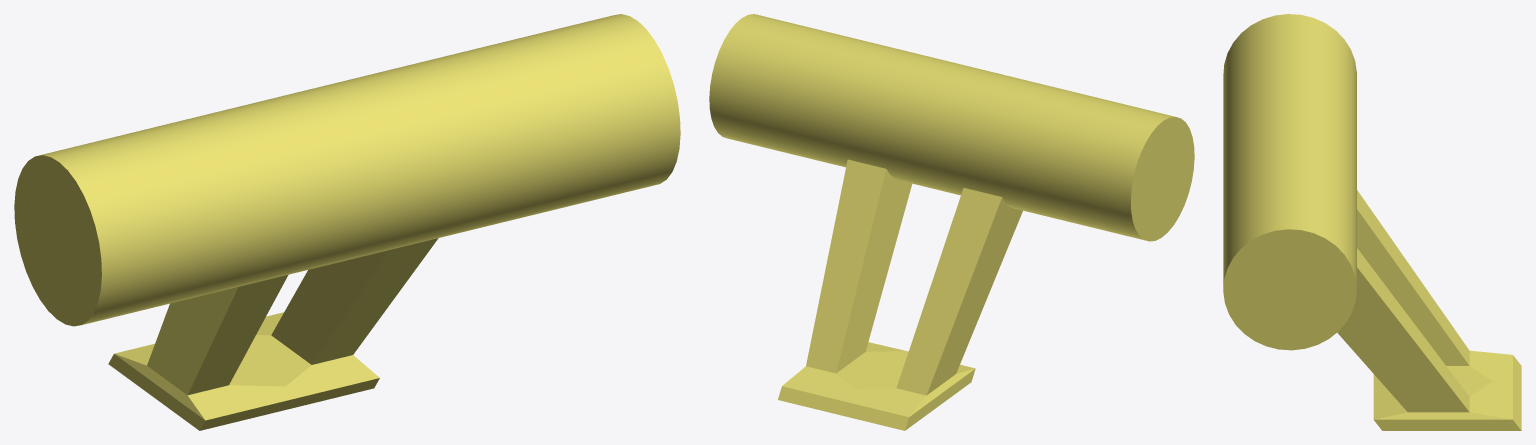
File: Poignée.fbx
The picture shows the model from 3 angles, left to right: view 1: azimuth 30°, elevation 25°; view 2: azimuth 150°, elevation 25°; view 3: azimuth 270°, elevation 25°; orthographic projection. The views are drawn at different scales.
Visible parts, largest first — view 1: Levier vitesse; view 2: Levier vitesse; view 3: Levier vitesse.
Part boxes in pixels (bbox=[...]): Levier vitesse: bbox=[14, 14, 680, 430]; Levier vitesse: bbox=[709, 14, 1194, 430]; Levier vitesse: bbox=[1223, 14, 1521, 430].
Bounding box in the file's own units: 24.33 × 14.59 × 14.25.
